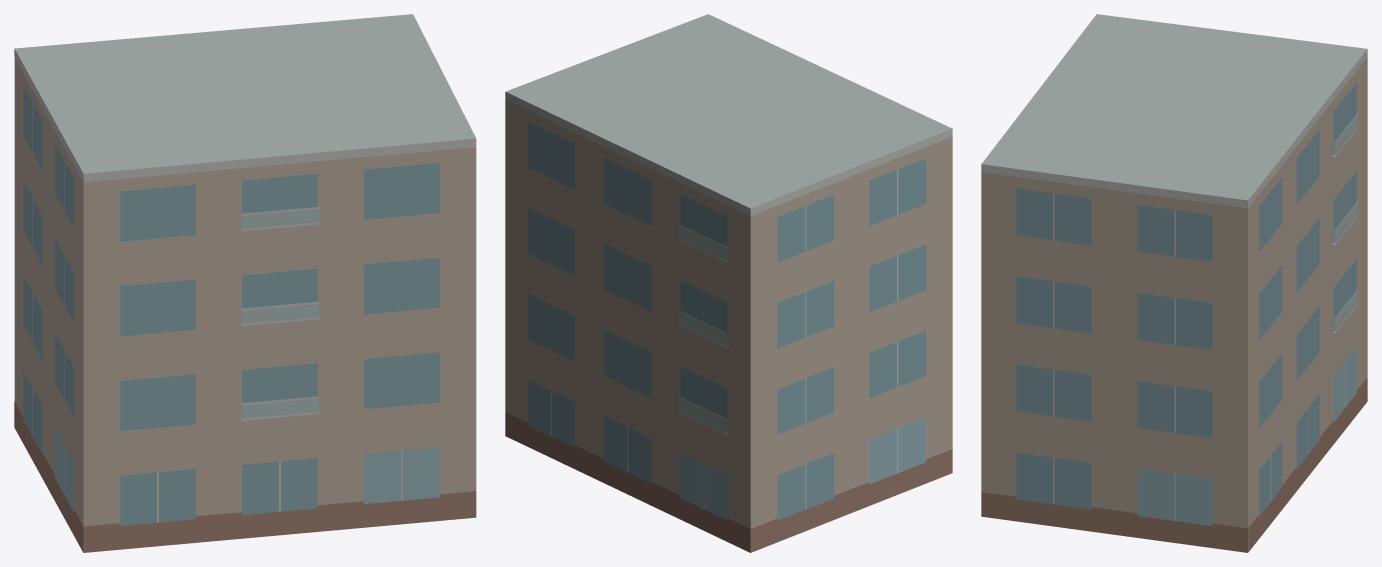
File: survey-upis-32815743.glb
3 renders of one model, left to right at view 1: azimuth 30°, elevation 25°; view 2: azimuth 150°, elevation 25°; view 3: azimuth 270°, elevation 25°, orthographic. The views are drawn at different scales.
Parts seen in each view (by area): view 1: survey-upis-32815743.tmp; view 2: survey-upis-32815743.tmp; view 3: survey-upis-32815743.tmp.
Boxes of the visible parts, x1,y1,x2,y2 form: survey-upis-32815743.tmp: [14, 14, 476, 552]; survey-upis-32815743.tmp: [505, 14, 952, 552]; survey-upis-32815743.tmp: [981, 14, 1367, 552].
Bounding box in the file's own units: 12.19 × 10.74 × 10.68.
